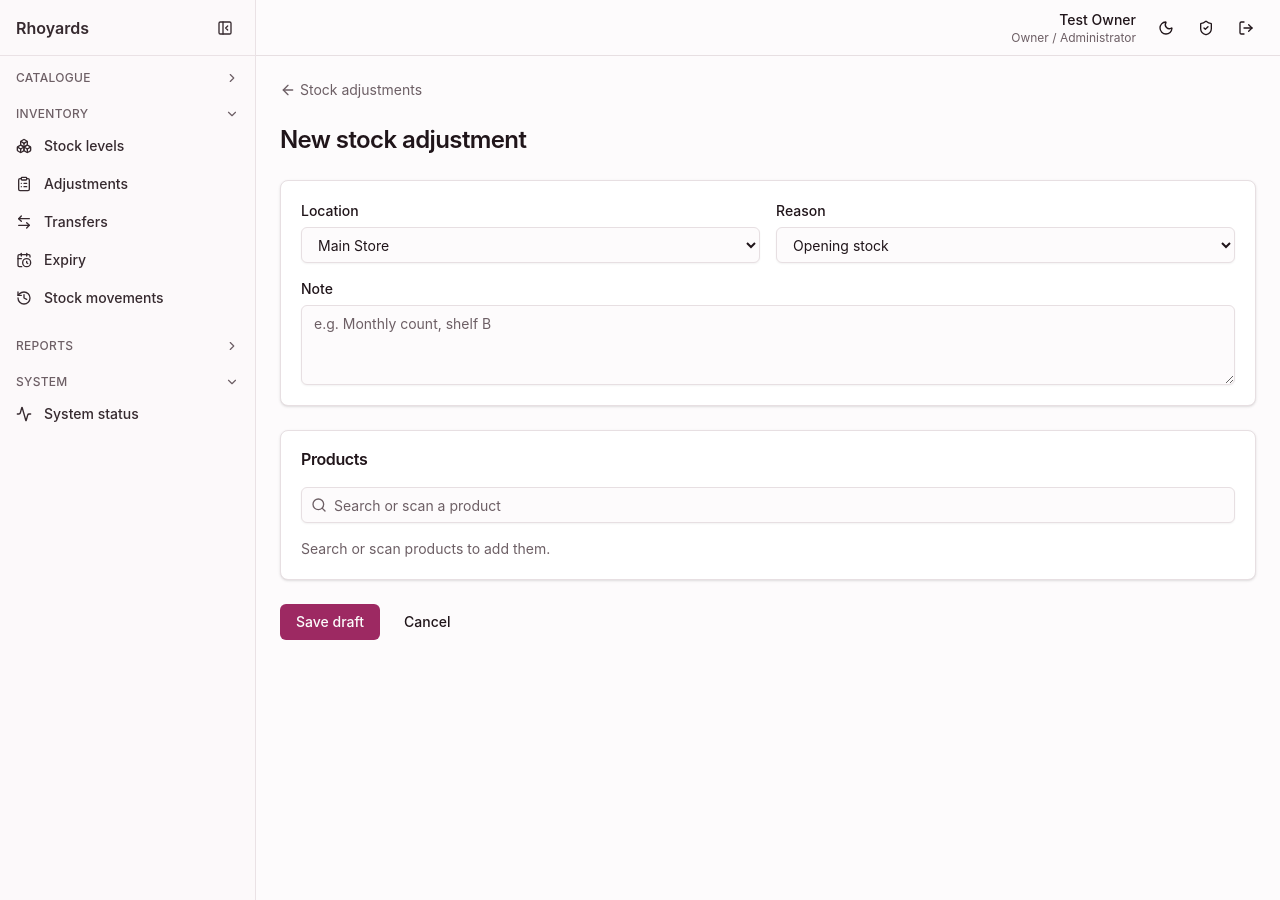
Test case: stock adjustment editor › requires a unit cost when adding stock
Type "SN-ECG-100" into the dropdown named "Add product".
click(768, 505); type("SN-ECG-100")  # box top-left (301, 487), bottom-right (1235, 523)
Then press Enter
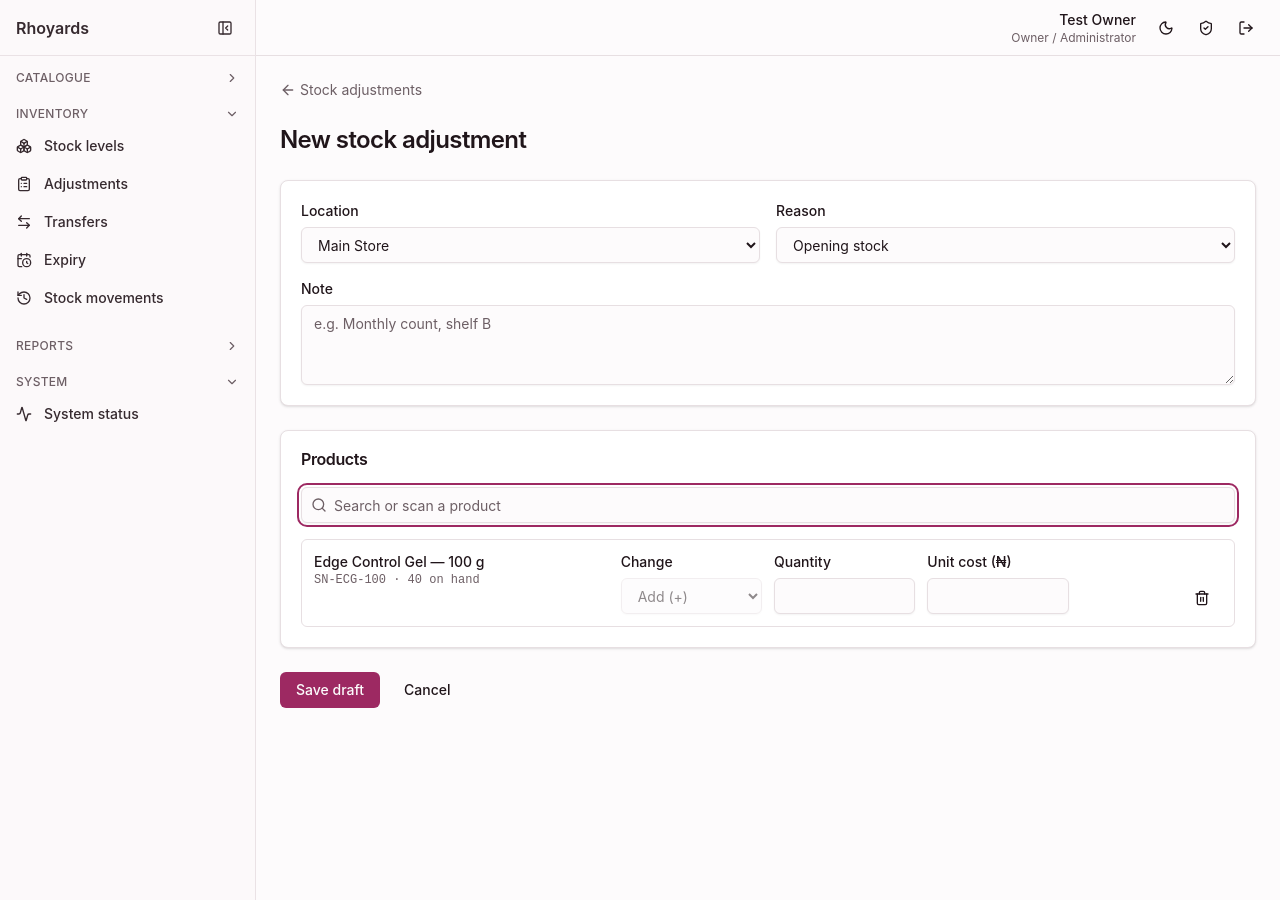
Type "5" into the field labelled "Quantity".
click(845, 596); type("5")  # box top-left (774, 578), bottom-right (915, 614)
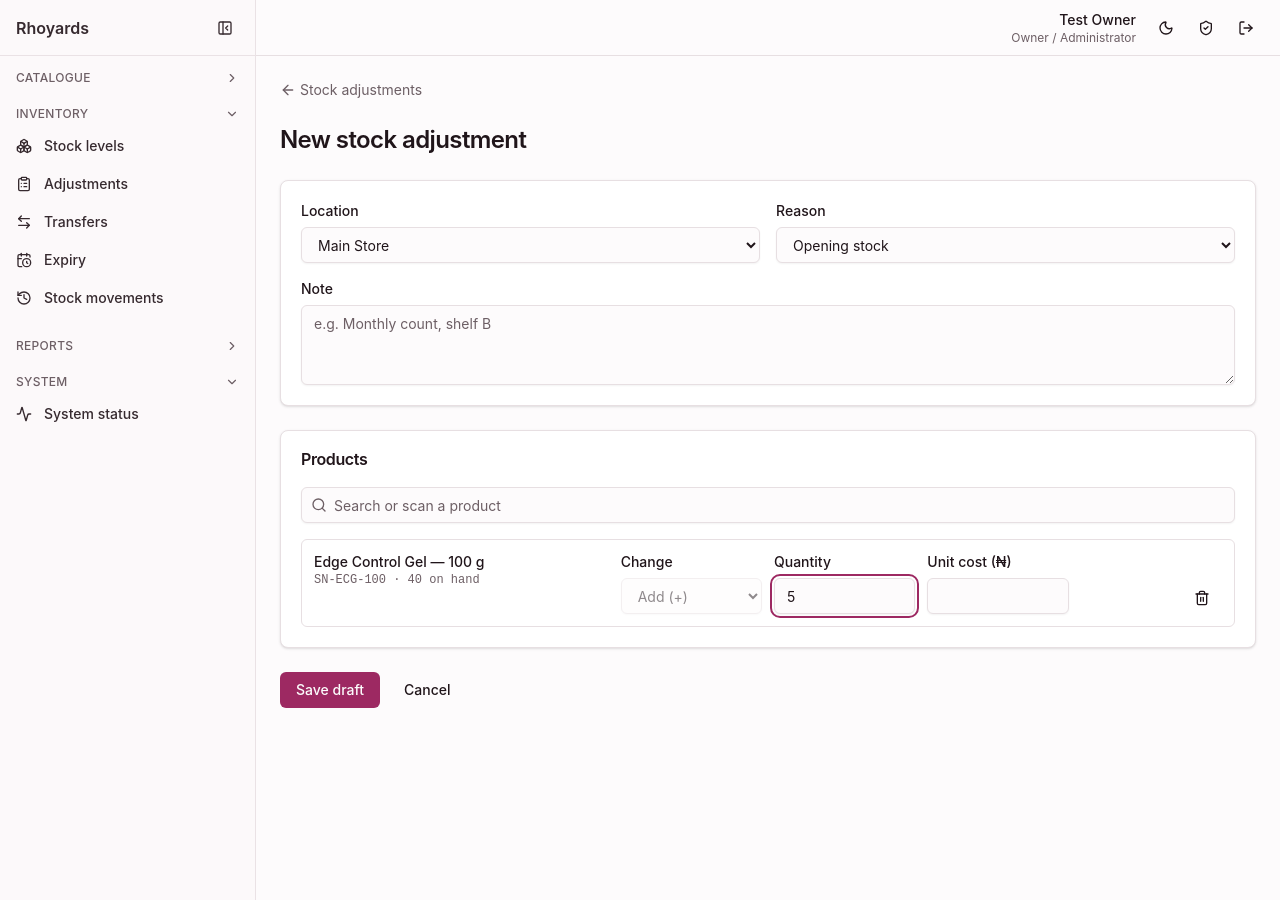
Click the button "Save draft".
click(330, 690)  # box top-left (280, 672), bottom-right (380, 708)
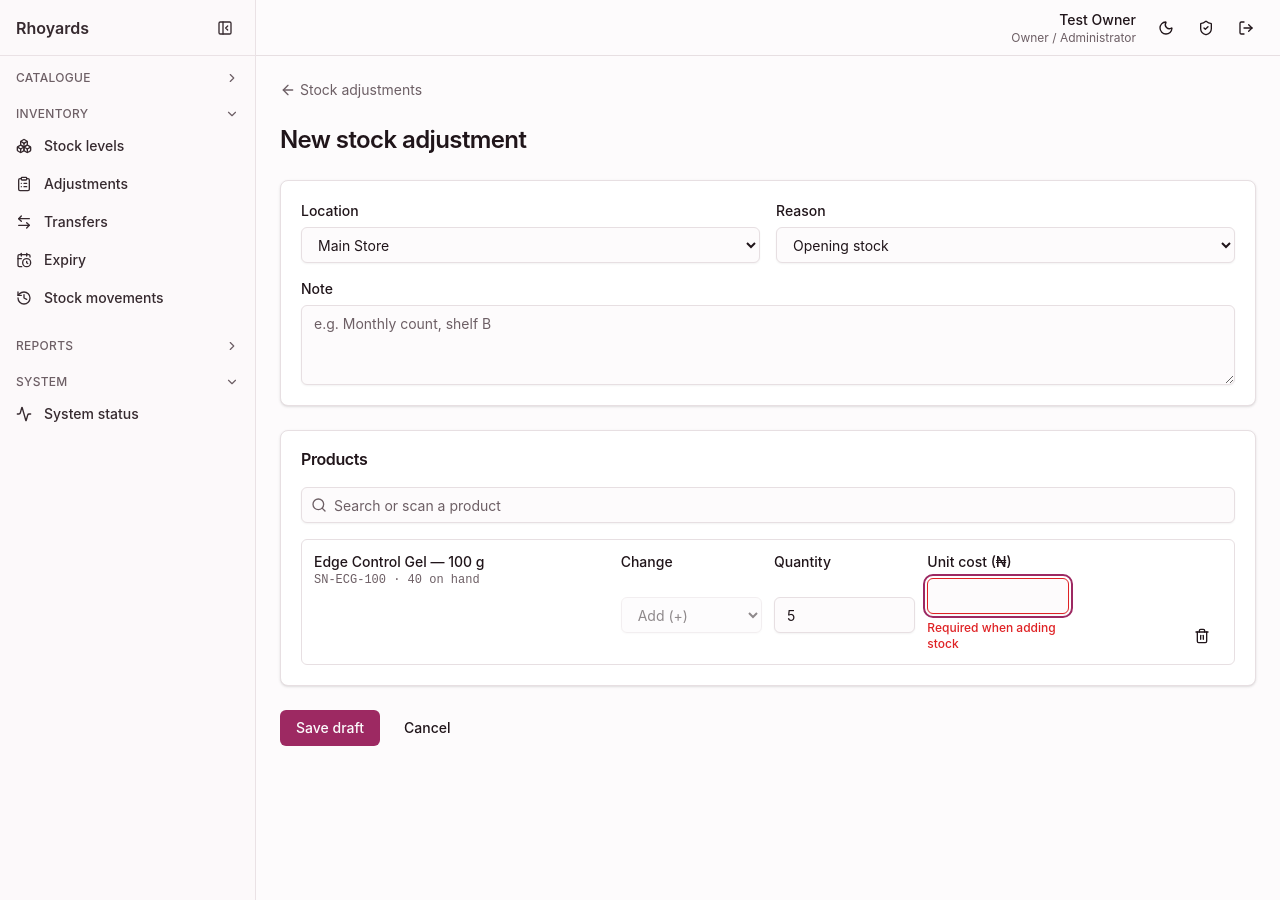
Check: the text "Required when adding stock" is shown, box top-left (927, 620), bottom-right (1069, 652)
